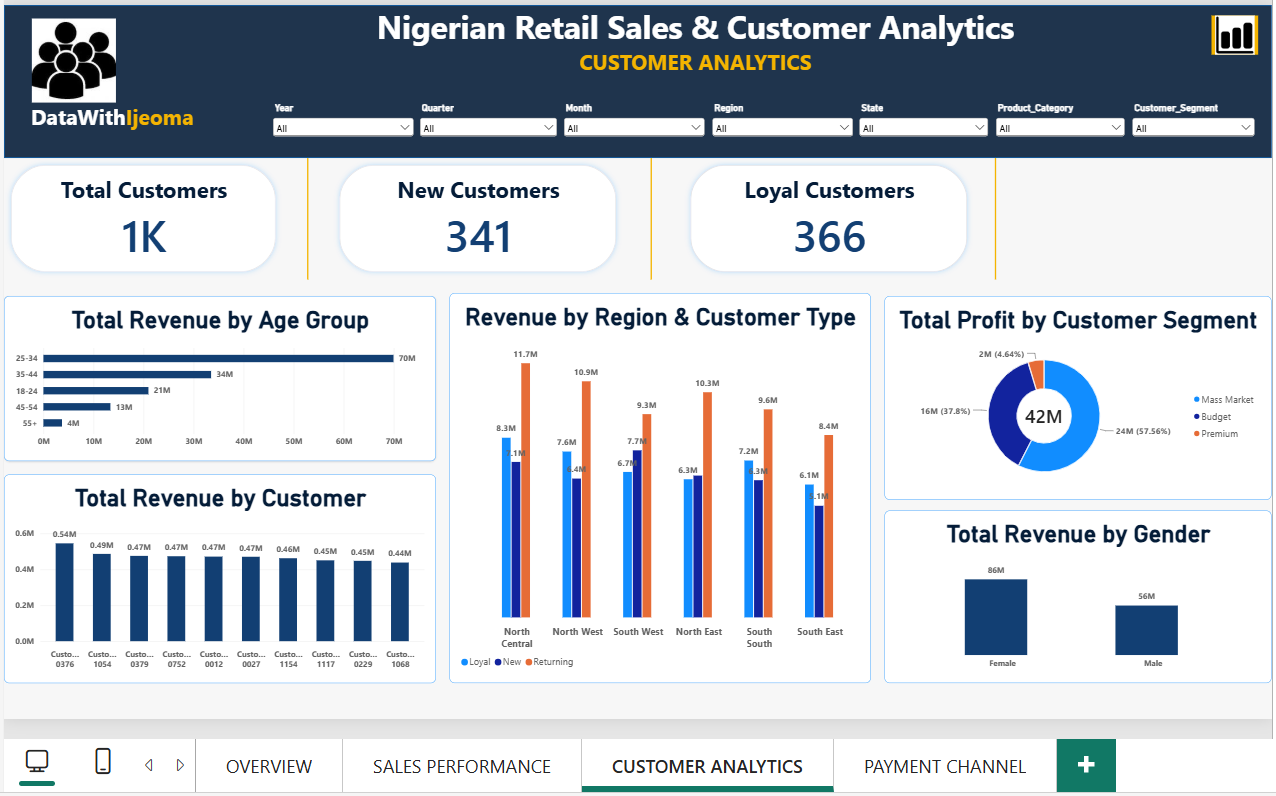

The page's visual inventory and layout, read from the dashboard file:
{"tool":"powerbi","page":{"name":"CUSTOMER ANALYTICS","canvas":[1920,1080],"ordinal":2},"visuals":[{"type":"shape","box":[0,0,1919.5,231.7],"z":0},{"type":"slicer","fields":{"Values":["Date.Year"]},"box":[402.6,148.7,223.1,59],"z":1000},{"type":"slicer","fields":{"Values":["Date.Quarter"]},"box":[625.6,148.7,217.9,59],"z":2000},{"type":"slicer","fields":{"Values":["Date.Month"]},"box":[843.6,148.7,223.1,59],"z":3000},{"type":"slicer","fields":{"Values":["States.Region"]},"box":[1066.7,148.7,223.1,59],"z":4000},{"type":"slicer","fields":{"Values":["States.State"]},"box":[1289.7,148.7,205.1,59],"z":5000},{"type":"slicer","fields":{"Values":["Products.Product_Category"]},"box":[1497.4,148.7,205.1,59],"z":6000},{"type":"slicer","fields":{"Values":["Customers.Customer_Segment"]},"box":[1702.6,148.7,194.9,59],"z":7000},{"type":"cardVisual","fields":{"Data":["_Measures.New Customers"]},"box":[497.4,231.7,440.6,184],"z":8000},{"type":"cardVisual","fields":{"Data":["_Measures.Loyal Customers"]},"box":[1028.9,231.7,440.6,184],"z":9000},{"type":"barChart","title":"Total Revenue by Age Group","fields":{"Category":["Customers.Age_Group"],"Y":["_Measures.Total Revenue"]},"box":[0,440.6,654.1,249.8],"z":10000},{"type":"columnChart","title":"Total Revenue by Customer","fields":{"Category":["Customers.Customer_Name"],"Y":["_Measures.Total Revenue"]},"box":[0,710.9,654.1,315.7],"z":11000},{"type":"donutChart","title":"Total Profit by Customer Segment","fields":{"Category":["Customers.Customer_Segment"],"Y":["_Measures.Total Profit"]},"box":[1333.3,440.6,586,308.9],"z":12000},{"type":"columnChart","title":"Total Revenue by Gender","fields":{"Category":["Customers.Gender"],"Y":["_Measures.Total Revenue"]},"box":[1333.3,765.4,586,261.2],"z":13000},{"type":"cardVisual","fields":{"Data":["_Measures.Total Customers"]},"box":[0,231.7,422.5,184],"z":14000},{"type":"clusteredColumnChart","title":"Revenue by Region & Customer Type","fields":{"Category":["States.Region"],"Series":["Customers.Customer_Type"],"Y":["_Measures.Total Revenue"]},"box":[674.6,436.1,638.2,590.5],"z":15000},{"type":"textbox","box":[174.9,0,1744.4,131.7],"z":17000},{"type":"textbox","box":[40.9,147.6,268,59.1],"z":18000},{"type":"image","box":[1828.4,15.9,70.8,59.6],"z":19000},{"type":"image","box":[18.2,20.4,174.9,127.2],"z":20000},{"type":"shape","box":[431.5,231.7,56.8,184],"z":21000},{"type":"shape","box":[956.2,231.7,47.7,184],"z":22000},{"type":"shape","box":[1483.2,231.7,36.3,184],"z":23000}]}

Visuals, with their boxes on the page's 1920x1080 design canvas (x1, y1, x2, y2). These are canvas units, not pixel positions in the 1276x796 screenshot, which may show the page scaled, cropped or inside an application window:
shape: 0 0 1920 232
slicer - Date.Year: 403 149 626 208
slicer - Date.Quarter: 626 149 844 208
slicer - Date.Month: 844 149 1067 208
slicer - States.Region: 1067 149 1290 208
slicer - States.State: 1290 149 1495 208
slicer - Products.Product_Category: 1497 149 1702 208
slicer - Customers.Customer_Segment: 1703 149 1898 208
cardVisual - _Measures.New Customers: 497 232 938 416
cardVisual - _Measures.Loyal Customers: 1029 232 1470 416
"Total Revenue by Age Group" barChart: 0 441 654 690
"Total Revenue by Customer" columnChart: 0 711 654 1027
"Total Profit by Customer Segment" donutChart: 1333 441 1919 750
"Total Revenue by Gender" columnChart: 1333 765 1919 1027
cardVisual - _Measures.Total Customers: 0 232 422 416
"Revenue by Region & Customer Type" clusteredColumnChart: 675 436 1313 1027
textbox: 175 0 1919 132
textbox: 41 148 309 207
image: 1828 16 1899 76
image: 18 20 193 148
shape: 432 232 488 416
shape: 956 232 1004 416
shape: 1483 232 1520 416
